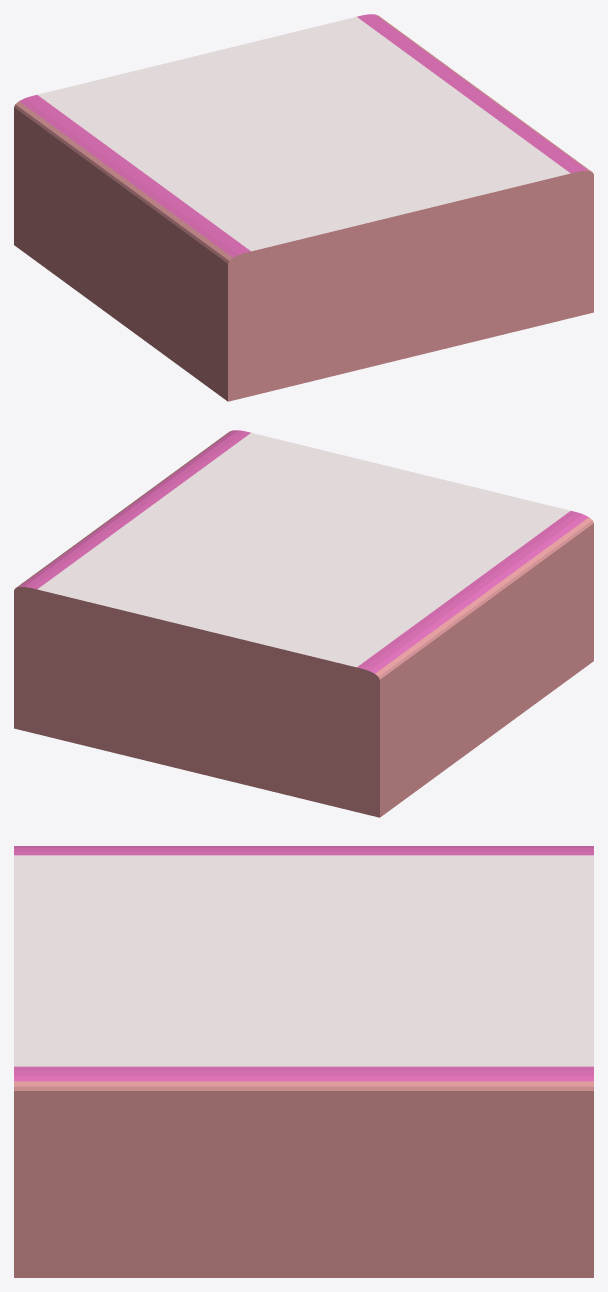
The model's file is my_ground.fbx.
3 views of the same model, one above another, from view 1: azimuth 30°, elevation 25°; view 2: azimuth 150°, elevation 25°; view 3: azimuth 270°, elevation 25° (orthographic). The views are drawn at different scales.
Parts seen in each view (by area): view 1: Cube.001; view 2: Cube.001; view 3: Cube.001.
Boxes of the visible parts, <box> form: Cube.001: <box>14,14,593,401</box>; Cube.001: <box>14,430,593,817</box>; Cube.001: <box>14,846,593,1277</box>.
Size of the model in its own units: 1763 by 666 by 1786.
